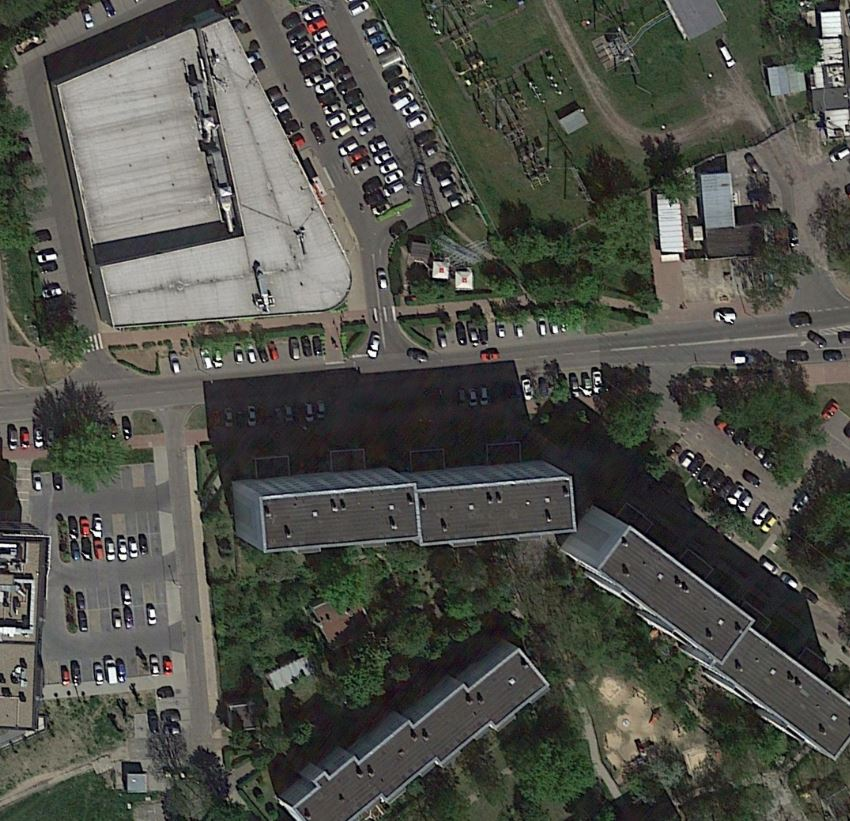block of flats: (552, 496, 850, 773), (270, 631, 558, 821), (220, 445, 603, 575)
shopping_center: (43, 3, 362, 346)
